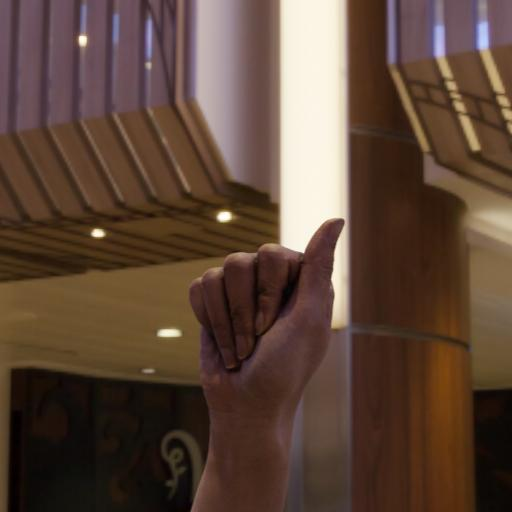A: (172, 203, 356, 512)
